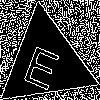E: (21, 36, 66, 92)
